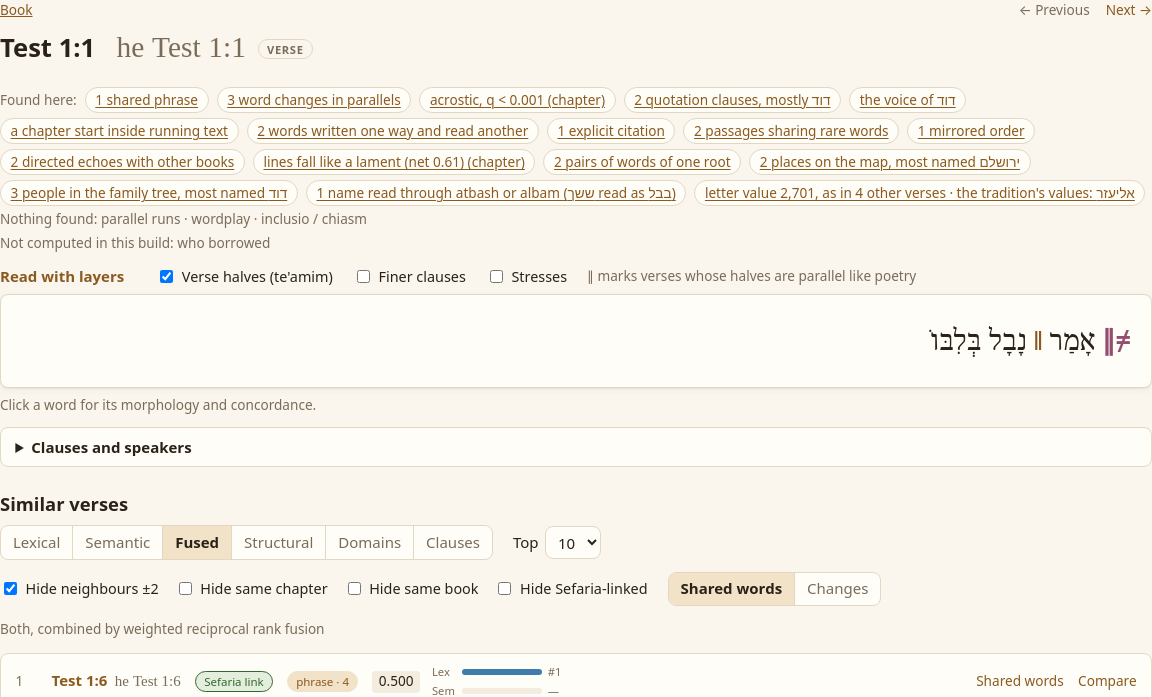
Scenario: UnitPage › shows the stresses of each line with the chapter it is in
expect the link "Test 1:6he Test 1:6" is shown: met, box [52,669,181,694]
Click the checkbox labelled "Stresses": {"x": 496, "y": 276} [490,270,503,283]
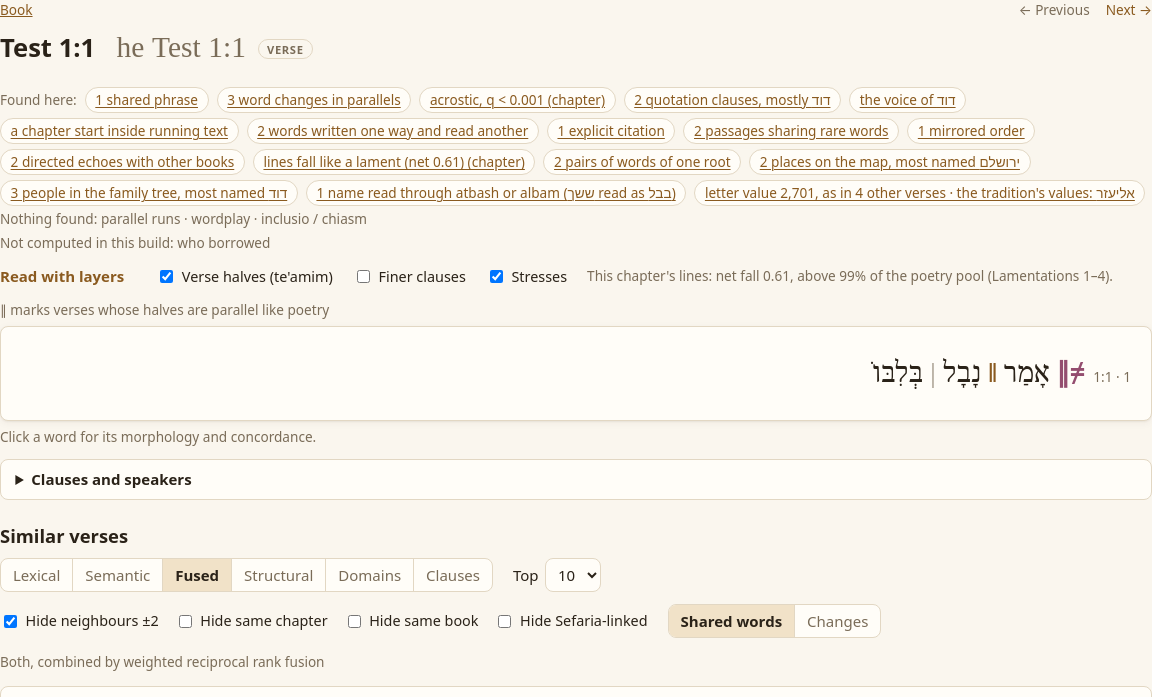
expect the text with class "meter-badge" reads "1:1 · 1": met, box [1093,368,1131,386]
expect the text "This chapter's lines: net fall 0.61, above 99% of the poetry pool (Lamentations 1–4)" is shown: met, box [587,266,1113,285]
